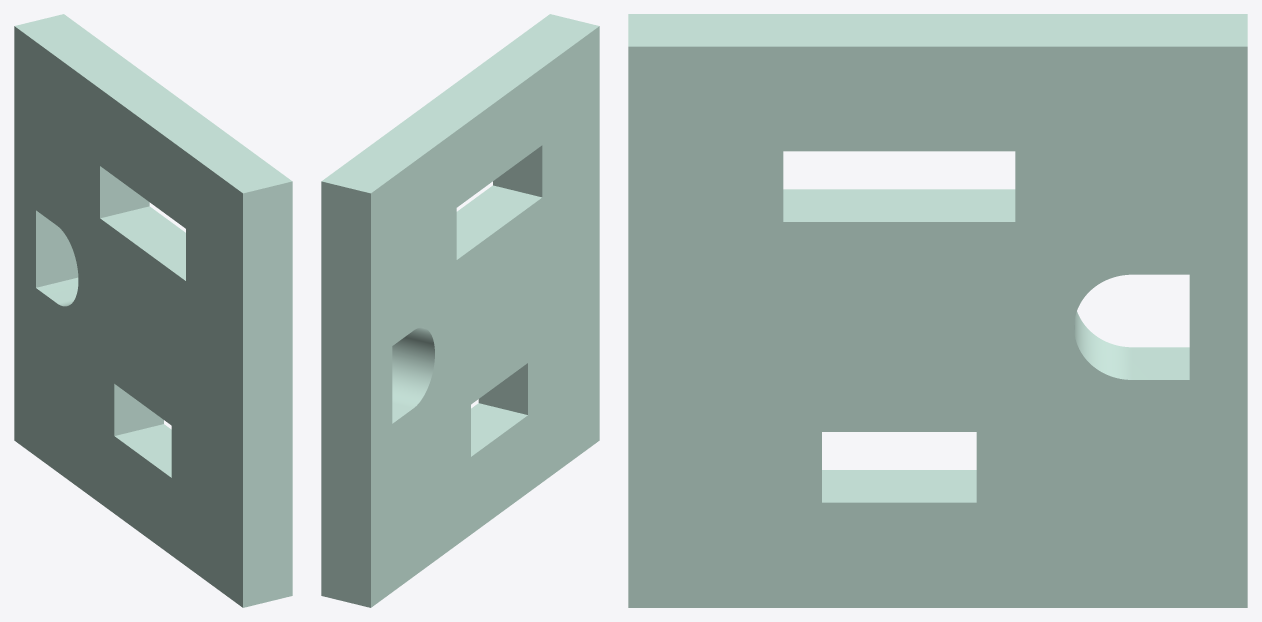
3 renders of one model, left to right at view 1: azimuth 30°, elevation 25°; view 2: azimuth 150°, elevation 25°; view 3: azimuth 270°, elevation 25°, orthographic. The views are drawn at different scales.
Visible parts, largest first — view 1: Renderer Node; view 2: Renderer Node; view 3: Renderer Node.
Boxes of the visible parts, x1,y1,x2,y2 form: Renderer Node: [14, 14, 292, 607]; Renderer Node: [321, 14, 599, 607]; Renderer Node: [628, 14, 1247, 607].
Size of the model in its own units: 0.1875 by 1.5 by 1.5.
